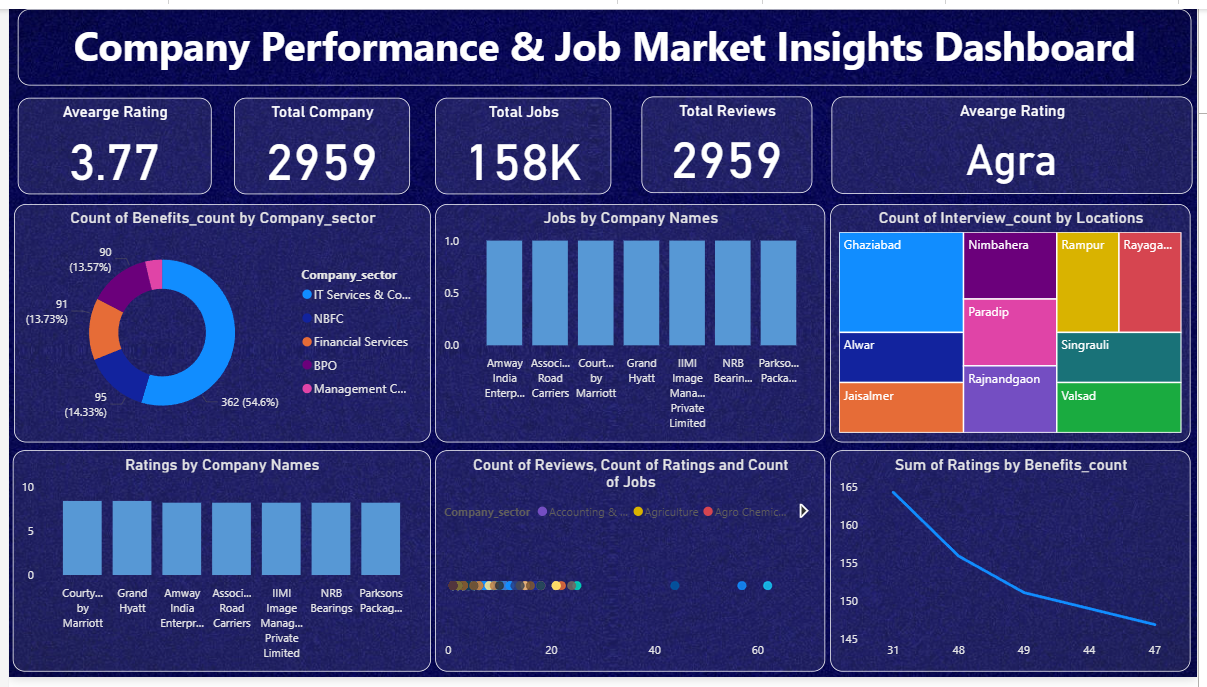

The dashboard page shown, as its layout file describes it:
{"tool":"powerbi","page":{"name":"Page 1","canvas":[1280,720],"ordinal":0},"visuals":[{"type":"textbox","box":[9.7,0,1264.3,82],"z":0},{"type":"columnChart","title":"Ratings by Company Names","fields":{"Category":["Sheet1.Company_names"],"Y":["Sum(Sheet1.Ratings)"]},"box":[4.1,474.8,450.1,238.8],"z":1000},{"type":"clusteredColumnChart","title":"Jobs by  Company Names","fields":{"Category":["Sheet1.Company_names"],"Y":["Count(Sheet1.Jobs_count)"]},"box":[459.7,209.9,419.9,256.6],"z":2000},{"type":"donutChart","fields":{"Category":["Sheet1.Company_sector"],"Y":["CountNonNull(Sheet1.Benefits_count)"]},"box":[6,209.9,448.8,257],"z":3000},{"type":"treemap","fields":{"Group":["Sheet1.Locations"],"Values":["CountNonNull(Sheet1.Interview_count)"]},"box":[885.1,209.9,388.3,256.6],"z":4000},{"type":"scatterChart","title":"Count of Reviews, Count of Ratings and Count of Jobs","fields":{"X":["CountNonNull(Sheet1.Reviews_count)"],"Category":["Sheet1.Jobs_count"],"Series":["Sheet1.Company_sector"]},"box":[459.7,474.8,419.9,238.8],"z":5000},{"type":"lineChart","fields":{"Category":["Sheet1.Benefits_count"],"Y":["Sum(Sheet1.Ratings)"]},"box":[885.1,474.8,388.3,238.8],"z":6000},{"type":"card","title":"Avearge Rating","fields":{"Values":["Avg(Sheet1.Ratings)"]},"box":[9.6,96.1,208.6,104.3],"z":7000},{"type":"card","title":"Total Reviews","fields":{"Values":["CountNonNull(Sheet1.Reviews_count)"]},"box":[680.6,94.7,183.9,104.3],"z":8000},{"type":"card","title":"Total Company","fields":{"Values":["CountNonNull(Sheet1.Company_names)"]},"box":[242.9,96.1,189.4,104.3],"z":9000},{"type":"card","title":"Total Jobs","fields":{"Values":["Sum(Sheet1.Jobs_count)"]},"box":[459.7,96.1,189.4,104.3],"z":10000},{"type":"card","title":"Avearge Rating","fields":{"Values":["Min(Sheet1.Locations)"]},"box":[885.5,94.1,388.5,105],"z":11000}]}

Visuals, with their boxes in screenshot pixels (x1, y1, x2, y2), scaled from the page's 1280x720 canvas onto the 1207x687 screenshot:
textbox: (9,0,1201,78)
"Ratings by Company Names" columnChart: (4,453,428,681)
"Jobs by  Company Names" clusteredColumnChart: (433,200,829,445)
donutChart - Sheet1.Company_sector x CountNonNull(Sheet1.Benefits_count): (6,200,429,446)
treemap - Sheet1.Locations x CountNonNull(Sheet1.Interview_count): (835,200,1201,445)
"Count of Reviews, Count of Ratings and Count of Jobs" scatterChart: (433,453,829,681)
lineChart - Sheet1.Benefits_count x Sum(Sheet1.Ratings): (835,453,1201,681)
"Avearge Rating" card: (9,92,206,191)
"Total Reviews" card: (642,90,815,190)
"Total Company" card: (229,92,408,191)
"Total Jobs" card: (433,92,612,191)
"Avearge Rating" card: (835,90,1201,190)
